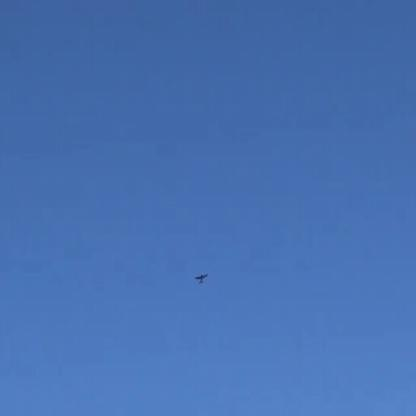CIV_Plane: (194, 273, 208, 283)
